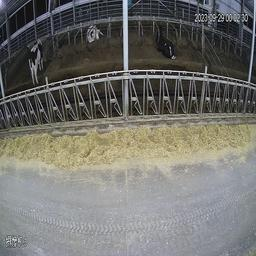cow: (154, 21, 177, 58), (28, 38, 45, 88), (87, 24, 106, 44)
